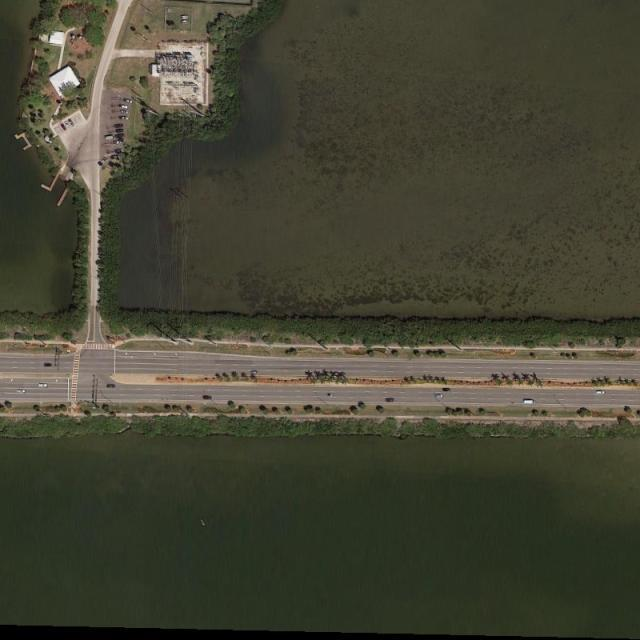vehicle: (68, 118, 76, 127), (202, 395, 213, 401), (119, 115, 130, 121), (38, 383, 48, 389), (123, 98, 133, 104), (524, 400, 536, 405), (64, 121, 71, 129), (116, 128, 125, 134), (44, 362, 54, 367), (111, 155, 121, 160), (115, 149, 125, 154), (114, 124, 124, 129), (596, 390, 606, 395), (60, 123, 67, 130), (17, 389, 26, 394), (120, 104, 129, 109), (115, 134, 124, 139), (386, 398, 395, 403), (435, 394, 443, 399), (107, 385, 116, 389), (442, 387, 451, 391), (121, 110, 129, 114), (250, 370, 258, 374), (114, 142, 123, 145), (106, 1, 110, 2)
